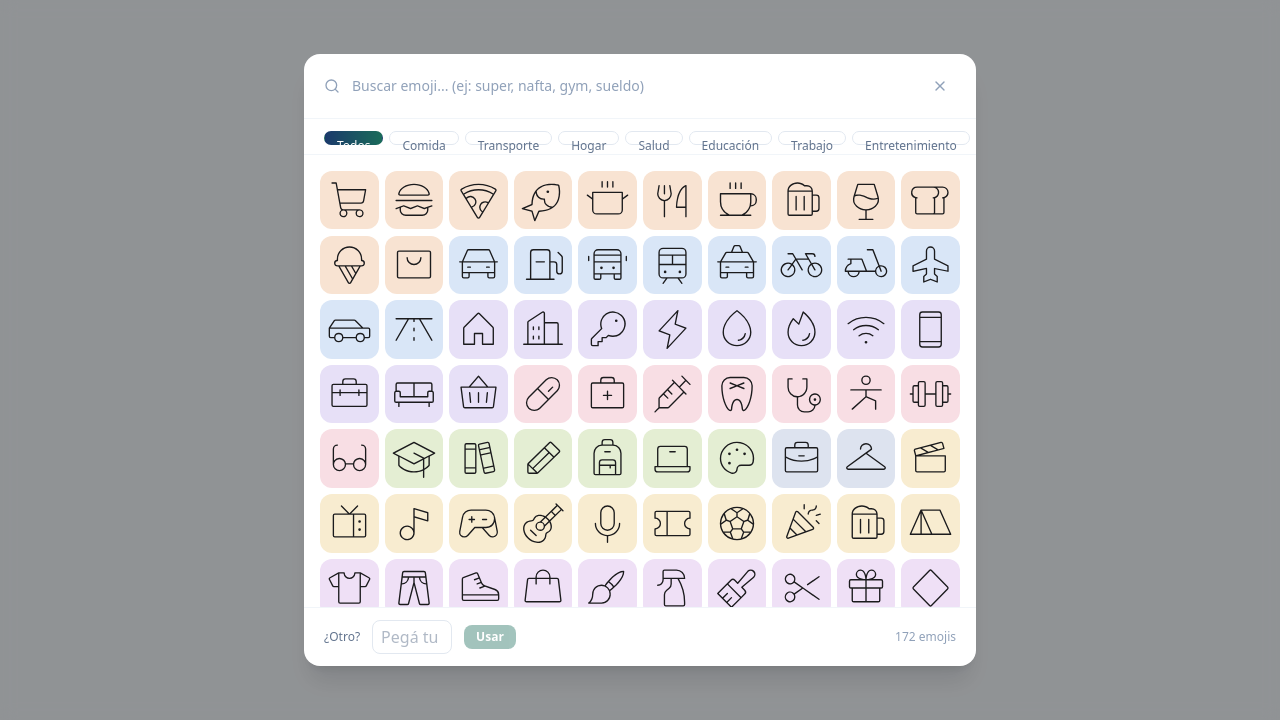
Scenario: EmojiPickerModal — búsqueda › botón "Limpiar filtros" desde el empty state limpia query y grupo
Type "xyzabc" into the field with placeholder "Buscar emoji... (ej: super, nafta, gym, sueldo)". click: (632, 86)
box: [352,76,912,96]
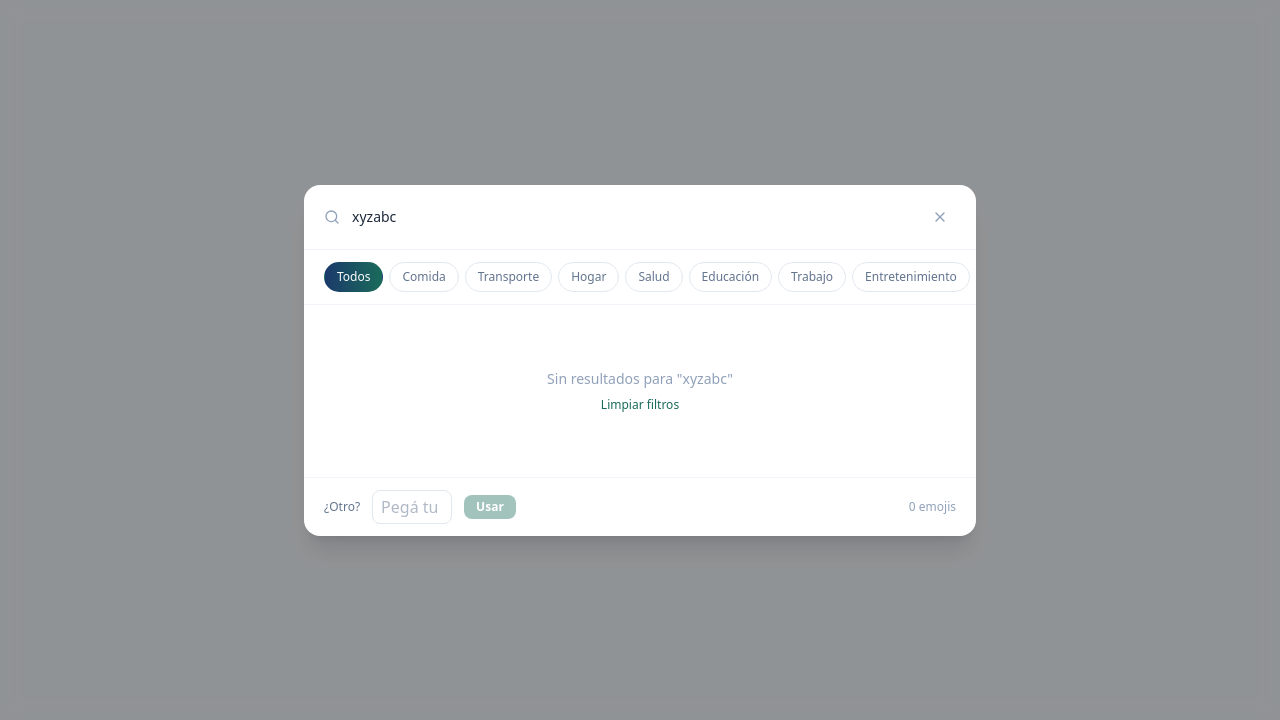
Click the button "Limpiar filtros". click: (640, 404)
box: [601,396,679,412]
(page scrolled)
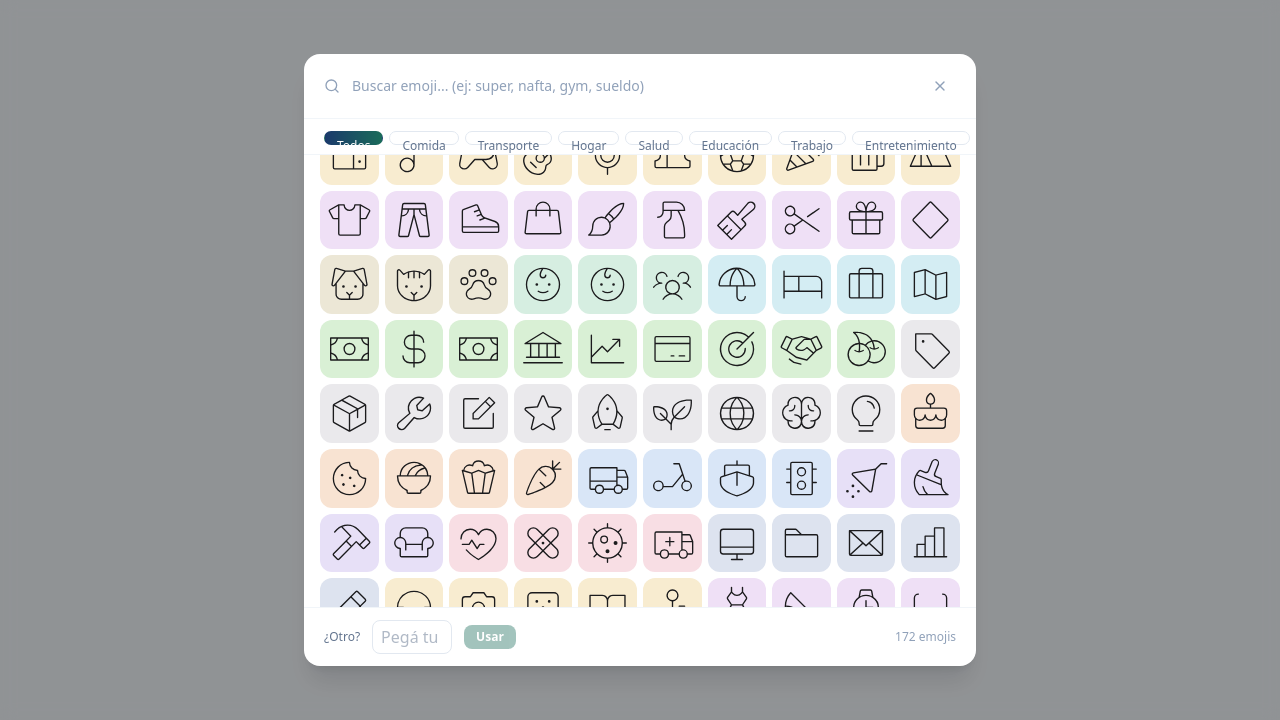
Now the field with placeholder "Buscar emoji... (ej: super, nafta, gym, sueldo)" is empty, box [352,76,912,96]
